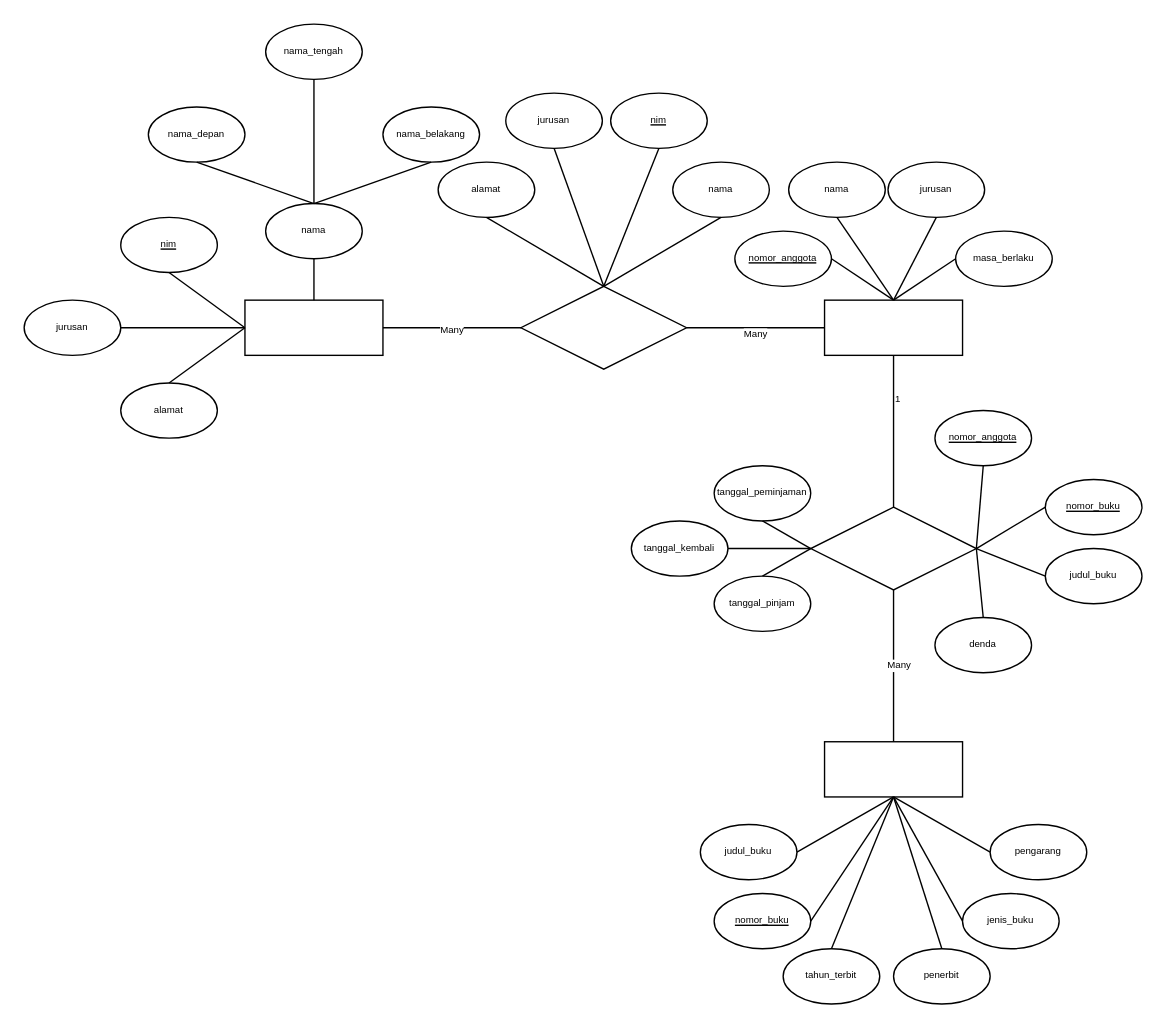
Some shapes in this 1166 by 1028 pixel diagram are drawn without their labels. The centre of each missing label's shape, as x and y in pixels:
"Anggota perpustakaan" goes at point (893, 327).
"Buku" goes at point (893, 768).
"Mahasiswa" goes at point (313, 327).
"Meminjam" goes at point (892, 548).
"mendaftar" goes at point (603, 327).
